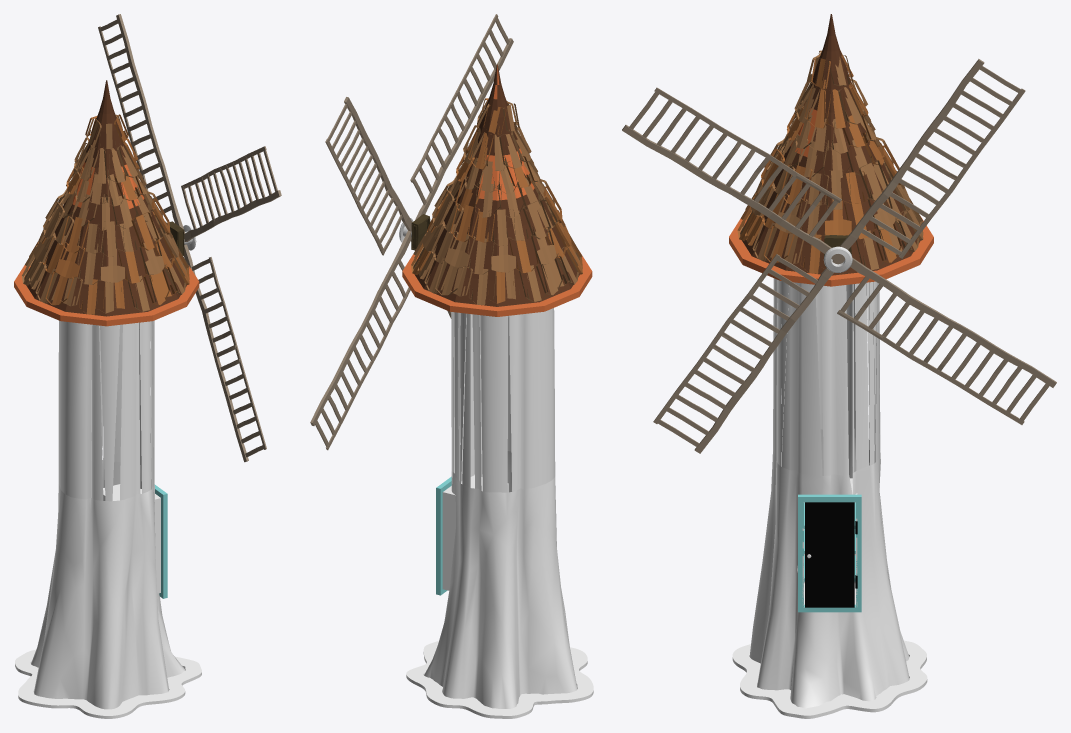
File: tree_mill_animated.glb
3 views of the same model, side by side, from view 1: azimuth 30°, elevation 25°; view 2: azimuth 150°, elevation 25°; view 3: azimuth 270°, elevation 25° (orthographic). The views are drawn at different scales.
Visible parts, largest first — view 1: Object_3_Ako polished_0, Object_2_Ako polished_0, Cube.026, Cube.005, Circle.001_2, Cube.026_2, Object_18_Anigre polished_0, Circle.001, Object_8_Turquoise Gloss Paint_0, Object_13_Avodire_0; view 2: Object_3_Ako polished_0, Object_2_Ako polished_0, Cube.026, Cube.005, Circle.001_2, Cube.026_2, Circle.001, Object_18_Anigre polished_0, Object_12_Avodire_0, Object_8_Turquoise Gloss Paint_0, Cube.003; view 3: Cube.005, Object_3_Ako polished_0, Object_2_Ako polished_0, Cube.026, Circle.001_2, Cube.026_2, Object_14_Dark Blue Glass_0, Object_18_Anigre polished_0, Circle.001, Object_8_Turquoise Gloss Paint_0.
Boxes of the visible parts, x1=… form: Object_3_Ako polished_0: x1=31, y1=460, x2=185, y2=709; Object_2_Ako polished_0: x1=58, y1=320, x2=154, y2=501; Cube.026: x1=22, y1=114, x2=189, y2=313; Cube.005: x1=98, y1=14, x2=281, y2=462; Circle.001_2: x1=26, y1=80, x2=186, y2=316; Cube.026_2: x1=29, y1=114, x2=189, y2=314; Object_18_Anigre polished_0: x1=15, y1=649, x2=201, y2=718; Circle.001: x1=14, y1=162, x2=199, y2=326; Object_8_Turquoise Gloss Paint_0: x1=154, y1=484, x2=167, y2=598; Object_13_Avodire_0: x1=155, y1=497, x2=160, y2=593; Object_3_Ako polished_0: x1=424, y1=451, x2=577, y2=708; Object_2_Ako polished_0: x1=451, y1=308, x2=555, y2=492; Cube.026: x1=413, y1=99, x2=582, y2=305; Cube.005: x1=310, y1=14, x2=513, y2=450; Circle.001_2: x1=414, y1=64, x2=579, y2=306; Cube.026_2: x1=411, y1=98, x2=582, y2=303; Circle.001: x1=402, y1=65, x2=592, y2=316; Object_18_Anigre polished_0: x1=406, y1=641, x2=593, y2=718; Object_12_Avodire_0: x1=442, y1=492, x2=455, y2=590; Object_8_Turquoise Gloss Paint_0: x1=436, y1=476, x2=451, y2=595; Cube.003: x1=411, y1=214, x2=430, y2=250; Cube.005: x1=622, y1=59, x2=1056, y2=453; Object_3_Ako polished_0: x1=749, y1=429, x2=909, y2=708; Object_2_Ako polished_0: x1=773, y1=278, x2=880, y2=475; Cube.026: x1=740, y1=50, x2=923, y2=270; Circle.001_2: x1=742, y1=14, x2=920, y2=275; Cube.026_2: x1=737, y1=52, x2=901, y2=273; Object_14_Dark Blue Glass_0: x1=805, y1=502, x2=854, y2=607; Object_18_Anigre polished_0: x1=732, y1=640, x2=927, y2=718; Circle.001: x1=729, y1=102, x2=933, y2=286; Object_8_Turquoise Gloss Paint_0: x1=798, y1=494, x2=861, y2=612.
Bounding box in the file's own units: 1.97 × 6.41 × 3.82.
